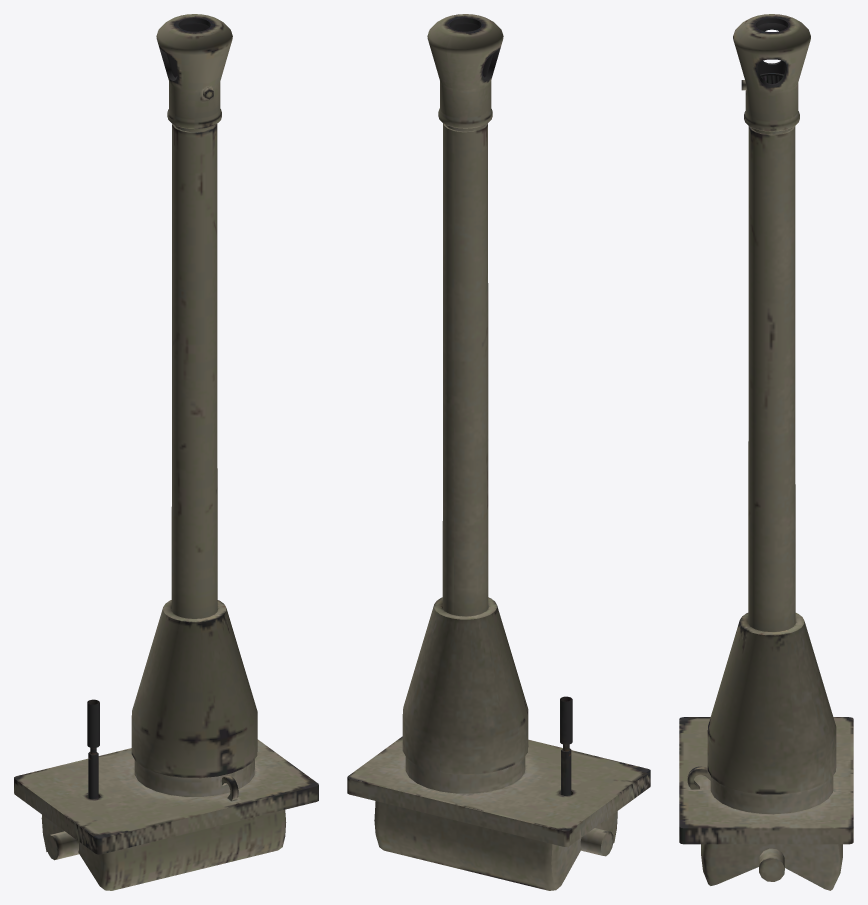
Rendered from Gun_01.glb.
3 renders of one model, left to right at view 1: azimuth 30°, elevation 25°; view 2: azimuth 150°, elevation 25°; view 3: azimuth 270°, elevation 25°, orthographic. The views are drawn at different scales.
Visible parts, largest first — view 1: set_0_group_0; view 2: set_0_group_0; view 3: set_0_group_0.
Part boxes in pixels (x1=…): set_0_group_0: x1=14, y1=14, x2=318, y2=890; set_0_group_0: x1=347, y1=14, x2=650, y2=890; set_0_group_0: x1=679, y1=14, x2=853, y2=890.
Size of the model in its own units: 0.5951 by 2.09 by 0.395.
Materials: 1 (1 with a texture image).
